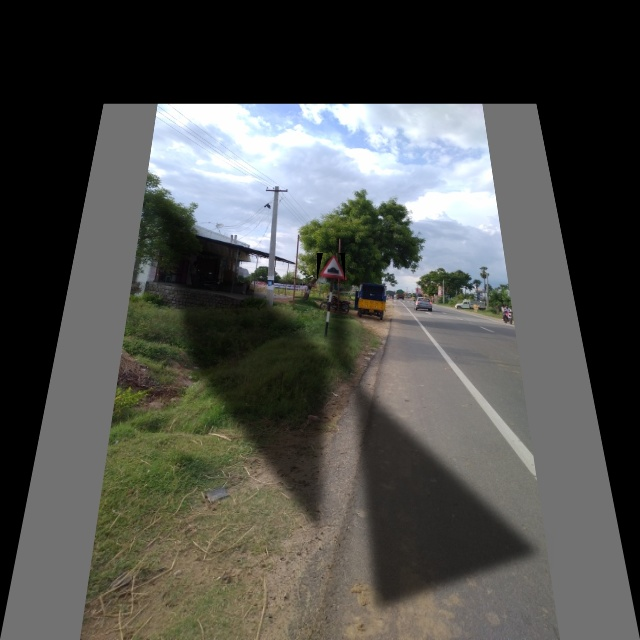Hump_or_Rough_Road: (317, 253, 345, 282)
